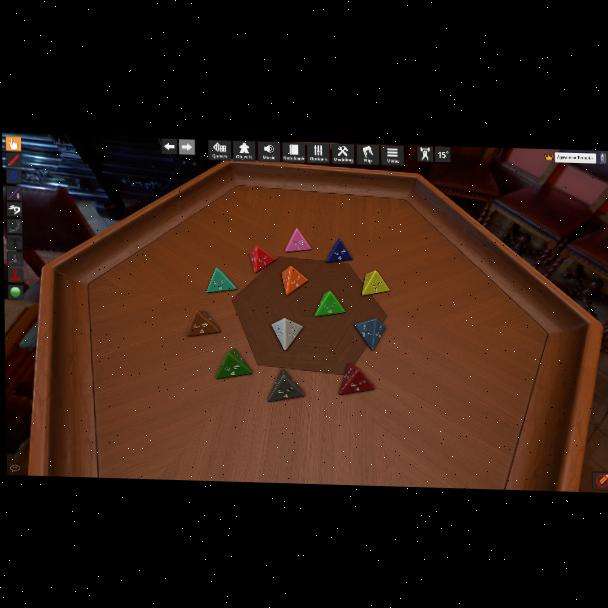d4: (268, 368, 305, 402), (339, 364, 374, 396), (216, 349, 251, 380), (272, 319, 304, 352), (354, 317, 384, 351), (186, 311, 219, 338), (314, 290, 345, 317), (281, 266, 307, 297), (206, 268, 236, 293), (360, 270, 388, 296), (250, 245, 274, 274), (284, 229, 311, 254), (325, 240, 352, 264)
